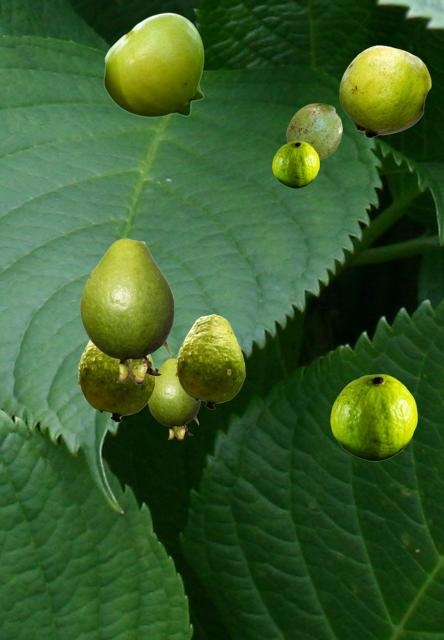guava: (80, 238, 173, 383), (103, 12, 203, 116), (339, 45, 430, 137), (330, 374, 416, 460), (175, 314, 244, 408), (77, 340, 154, 421), (147, 358, 199, 439), (286, 103, 341, 160), (272, 141, 318, 187)
